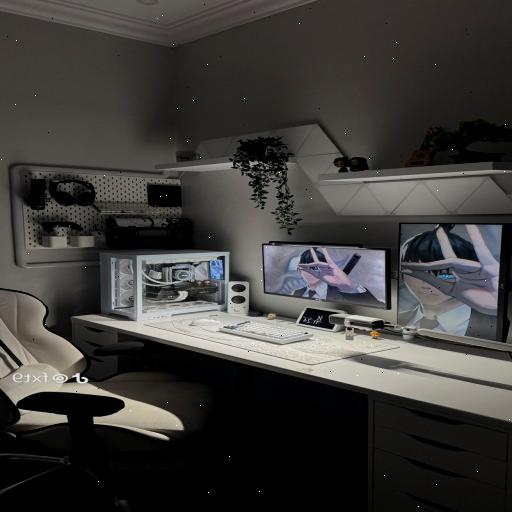computer case: (101, 250, 230, 321)
monitor: (398, 220, 512, 342), (264, 243, 391, 309)
